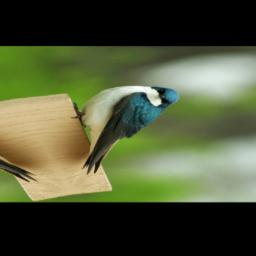Swallow: (38, 78, 218, 176)
